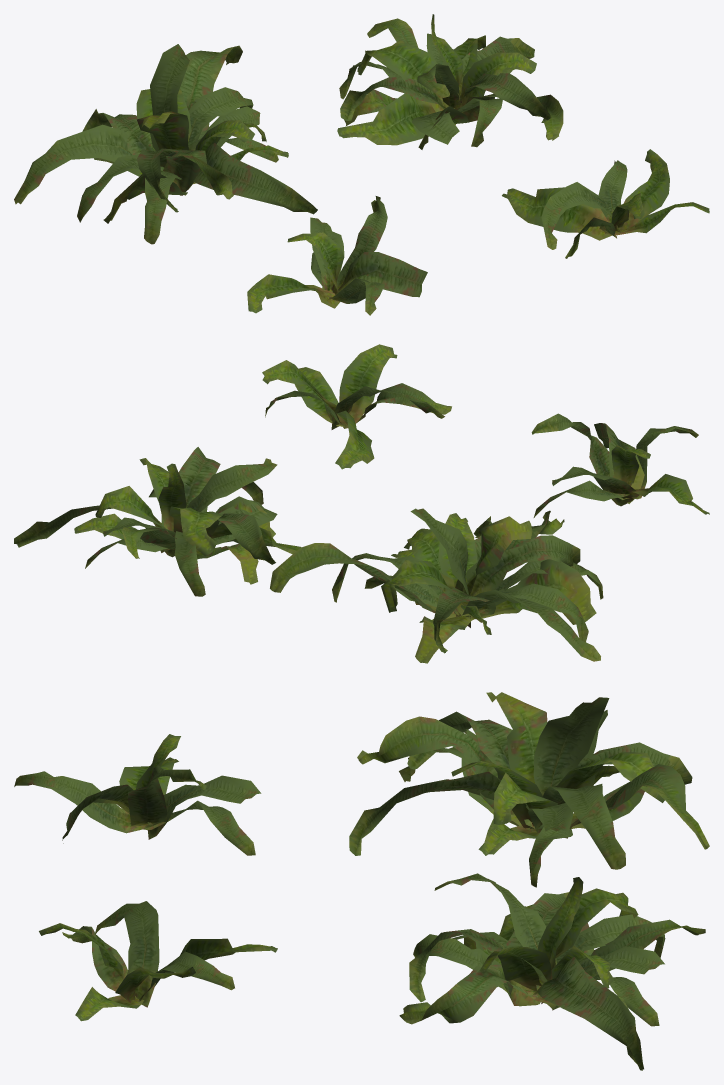
Rendered from fern_02.glb.
The picture shows the model from 3 angles, top to bottom: view 1: azimuth 30°, elevation 25°; view 2: azimuth 150°, elevation 25°; view 3: azimuth 270°, elevation 25°; orthographic projection. The views are drawn at different scales.
Visible parts, largest first — view 1: fern_02_b; view 2: fern_02_b; view 3: fern_02_b.
Boxes of the visible parts, box(x1,y1,x2,y2) form: fern_02_b: box(14, 14, 709, 315); fern_02_b: box(14, 344, 709, 663); fern_02_b: box(14, 692, 709, 1070).
Size of the model in its own units: 1.97 by 0.4277 by 1.72.
1 material, 1 textured.
